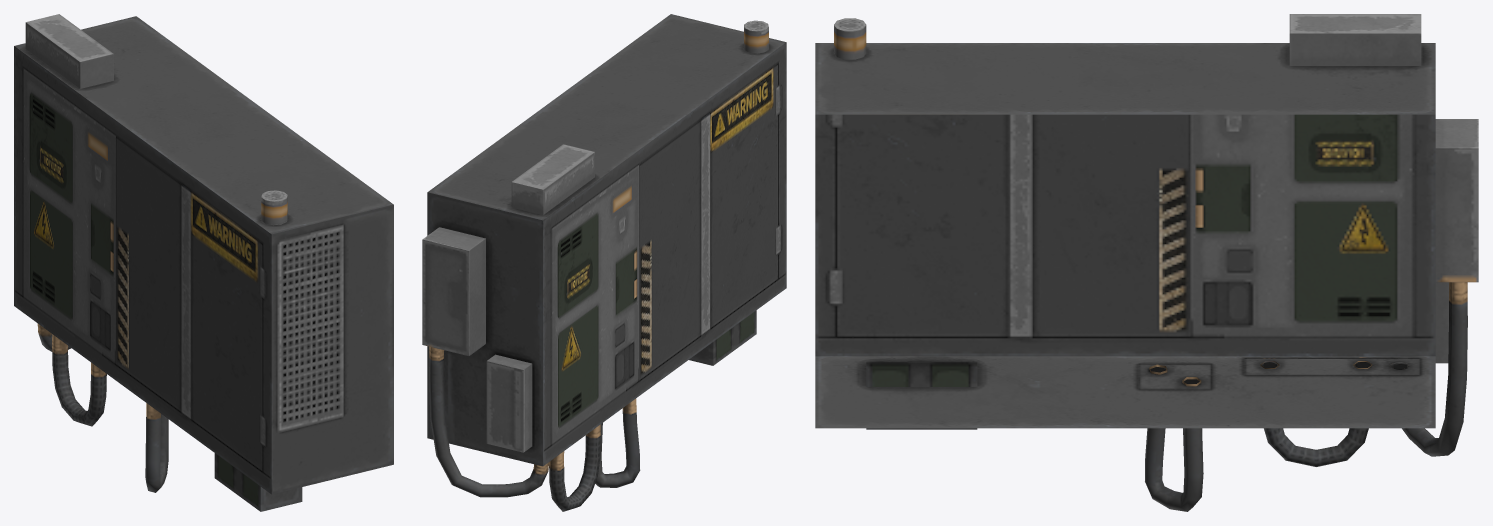
Rendered from CP_Feeder_Node_01.fbx.
3 renders of one model, left to right at view 1: azimuth 30°, elevation 25°; view 2: azimuth 150°, elevation 25°; view 3: azimuth 270°, elevation 25°, orthographic. The views are drawn at different scales.
Parts seen in each view (by area): view 1: CP_Feeder_Node_01_LOD0; view 2: CP_Feeder_Node_01_LOD0; view 3: CP_Feeder_Node_01_LOD0.
Part boxes in pixels (<box>): CP_Feeder_Node_01_LOD0: <box>14,14,393,511</box>; CP_Feeder_Node_01_LOD0: <box>422,14,786,511</box>; CP_Feeder_Node_01_LOD0: <box>815,14,1478,511</box>.
Size of what is drawn, in the model's own units: 51.48 by 160 by 201.
